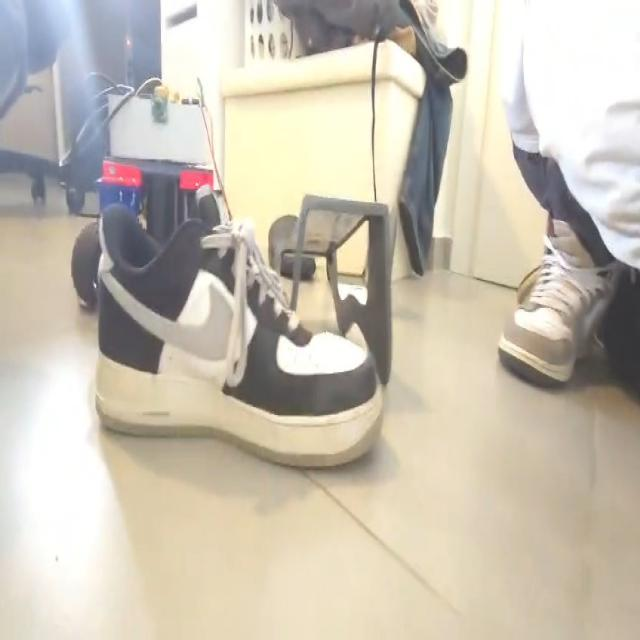Robot: (70, 84, 223, 307)
